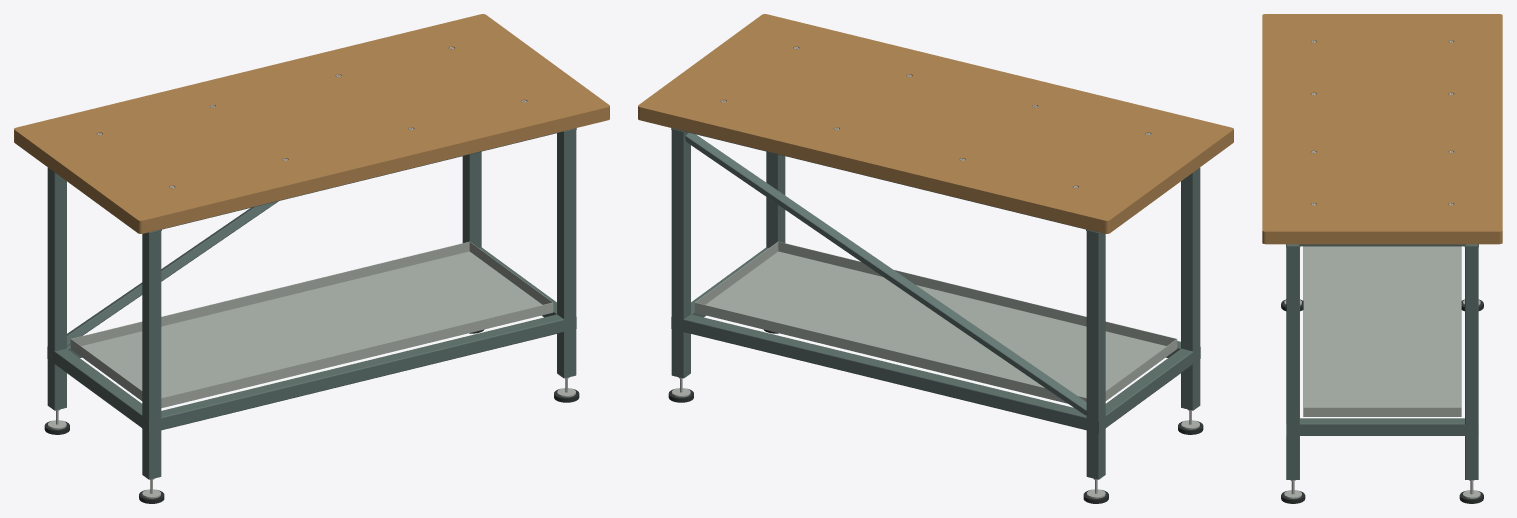
The model's file is workbench-r1.glb.
3 views of the same model, side by side, from view 1: azimuth 30°, elevation 25°; view 2: azimuth 150°, elevation 25°; view 3: azimuth 270°, elevation 25° (orthographic). The views are drawn at different scales.
Visible parts, largest first — view 1: top, lower-tray, welded-frame; view 2: top, lower-tray, welded-frame; view 3: top, lower-tray, welded-frame, foot-1, foot-3.
Boxes of the visible parts, x1,y1,x2,y2 form: top: (14, 14, 609, 233); lower-tray: (70, 241, 553, 408); welded-frame: (47, 128, 576, 479); top: (638, 14, 1233, 233); lower-tray: (694, 241, 1177, 403); welded-frame: (671, 128, 1200, 479); top: (1262, 14, 1502, 244); lower-tray: (1303, 246, 1461, 416); welded-frame: (1286, 244, 1478, 479); foot-1: (1459, 480, 1483, 503); foot-3: (1281, 480, 1305, 503).
Size of the model in its own units: 1.5 by 0.9 by 0.7.
